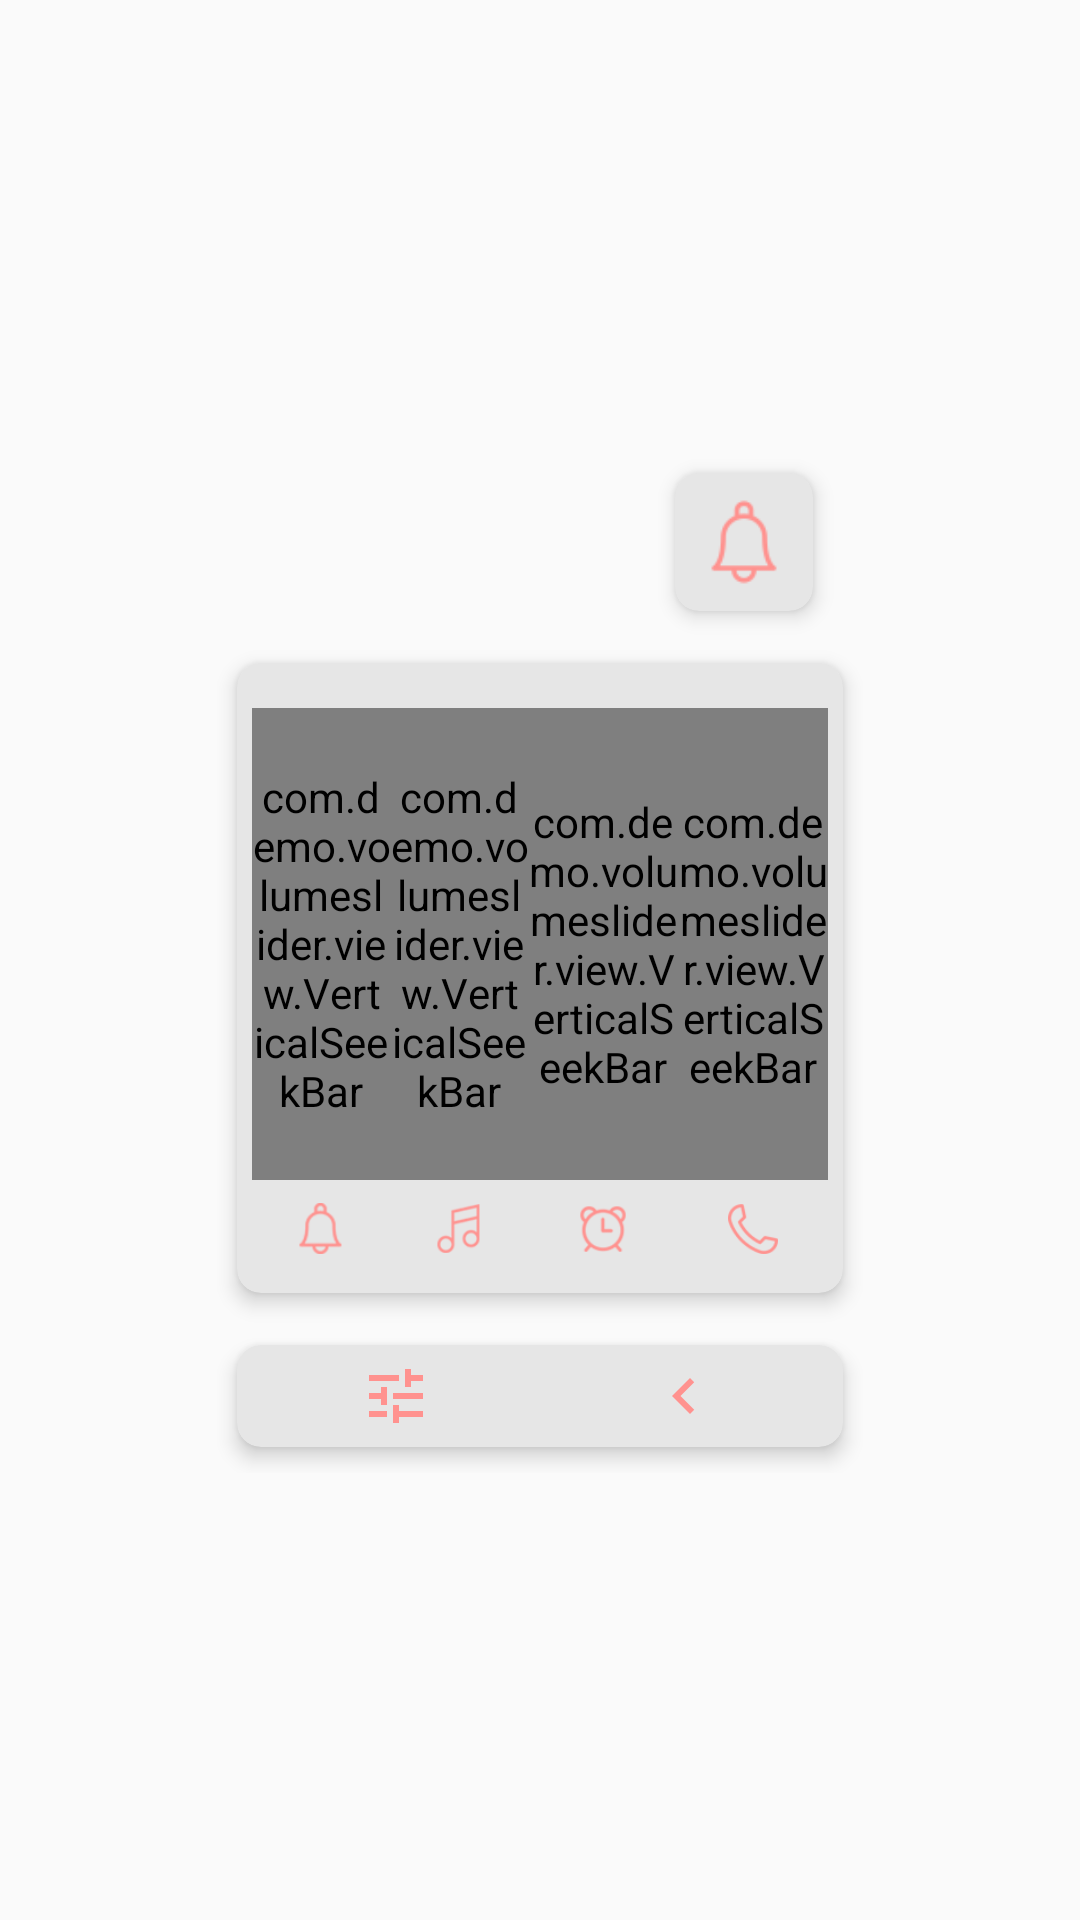

Locate icon controls on the screen. Image size 1080*1920, boxes as (x1, y1, x2, y2).
alram: (580, 1206, 626, 1252)
call: (728, 1204, 778, 1254)
music: (437, 1204, 480, 1253)
navigate before: (672, 1378, 694, 1414)
ring: (711, 501, 777, 583), (299, 1203, 342, 1254)
tune: (369, 1369, 423, 1423)
